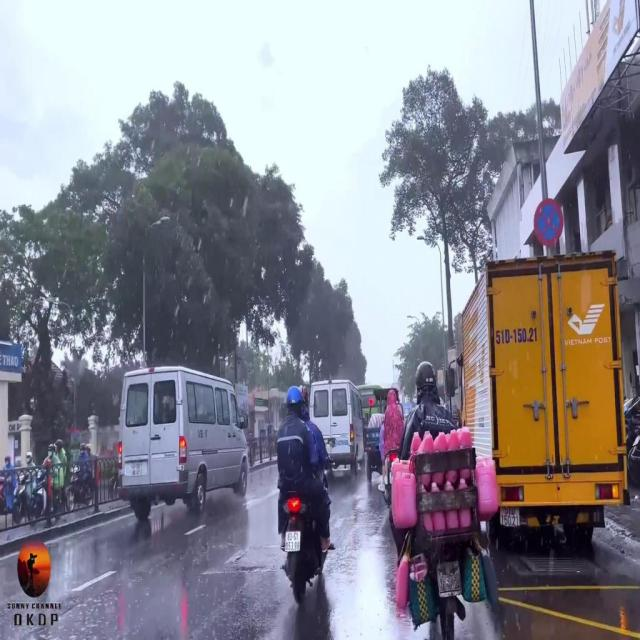cam_dung_xe_va_do_xe: (533, 197, 564, 250)
